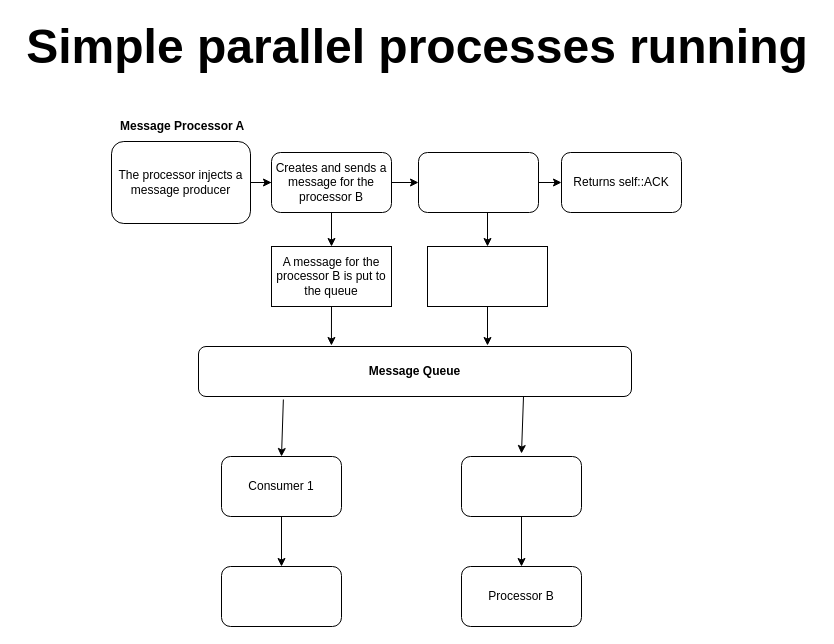
The diagram is 834 pixels wide and 644 high, and some of its shapes have lost their labels. Here are the shapes that lost their labels. From the top down, the centre of each, then its label:
At pixel 478 182: "Creates and sends a message for the processor C".
At pixel 487 276: "A message for the processor C is put to the queue".
At pixel 521 486: "Consumer 2".
At pixel 281 596: "Processor A".
